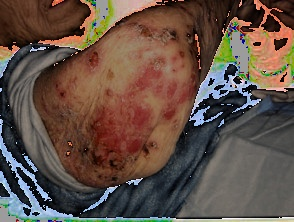SJS-TEN: (42, 16, 212, 187), (83, 51, 108, 70)
